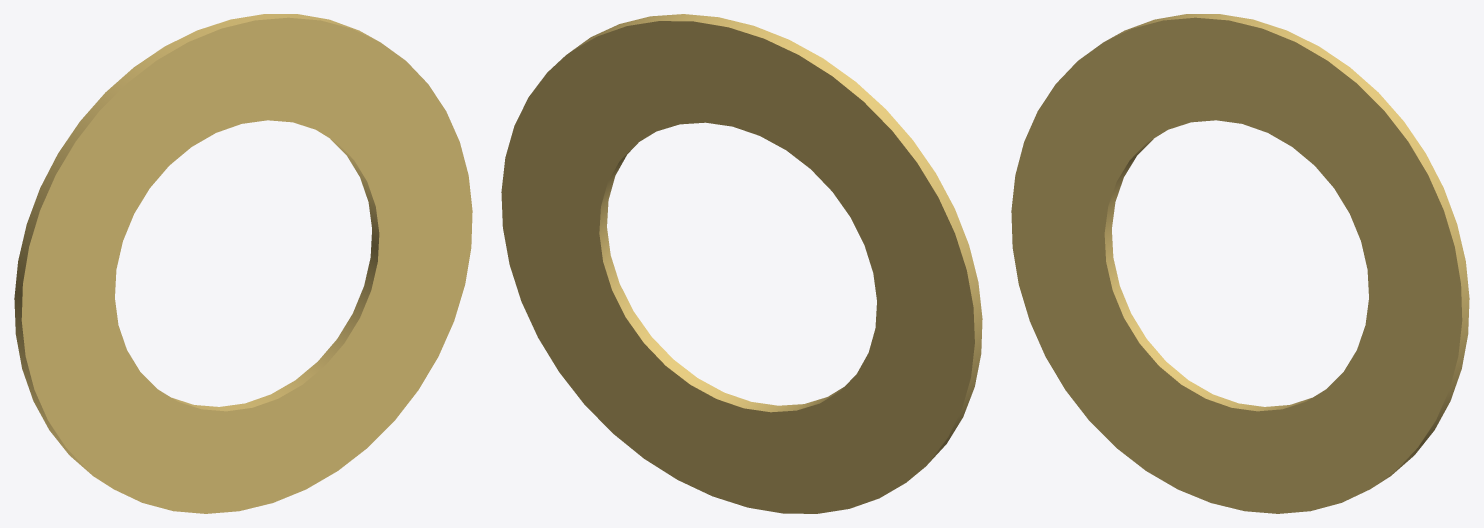
3 views of the same model, side by side, from view 1: azimuth 30°, elevation 25°; view 2: azimuth 150°, elevation 25°; view 3: azimuth 330°, elevation 25° (orthographic). The views are drawn at different scales.
Visible parts, largest first — view 1: 0C6E641F3DC18749666DF3C59C03E7384C05AFCA|:|B162CC1D1CA0_3633; view 2: 0C6E641F3DC18749666DF3C59C03E7384C05AFCA|:|B162CC1D1CA0_3633; view 3: 0C6E641F3DC18749666DF3C59C03E7384C05AFCA|:|B162CC1D1CA0_3633.
Part boxes in pixels (<box>): 0C6E641F3DC18749666DF3C59C03E7384C05AFCA|:|B162CC1D1CA0_3633: <box>14,14,472,513</box>; 0C6E641F3DC18749666DF3C59C03E7384C05AFCA|:|B162CC1D1CA0_3633: <box>501,14,982,513</box>; 0C6E641F3DC18749666DF3C59C03E7384C05AFCA|:|B162CC1D1CA0_3633: <box>1011,14,1469,513</box>.
Size of the model in its own units: 107 by 107 by 10.47.
